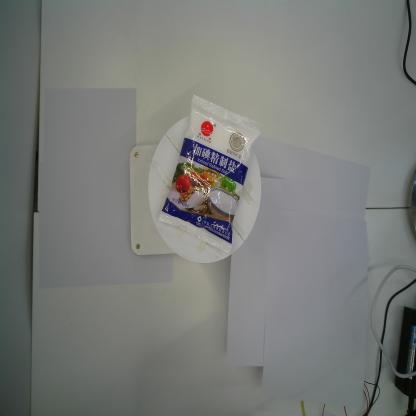Seasoner: (156, 94, 263, 254)
